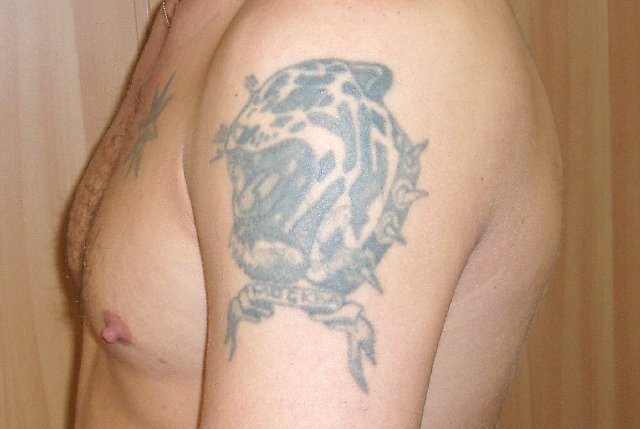tatu4_zvezda: (123, 68, 181, 181)
tatu5_tigr: (214, 55, 426, 297)
